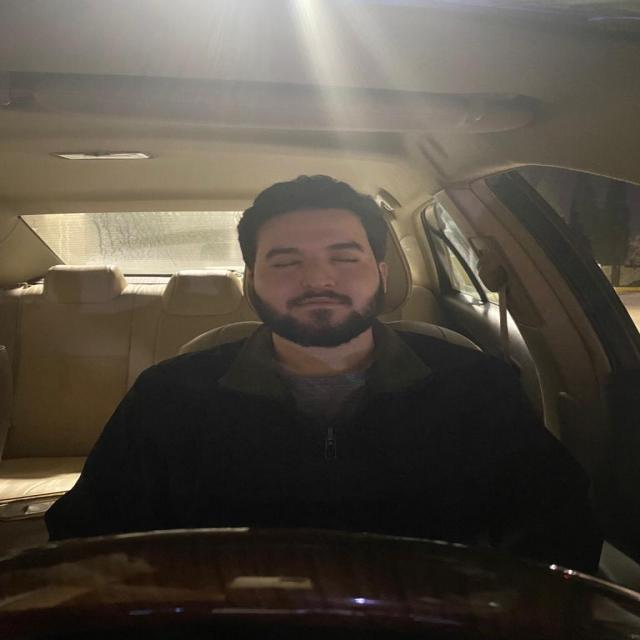drowsy: (231, 174, 402, 350)
